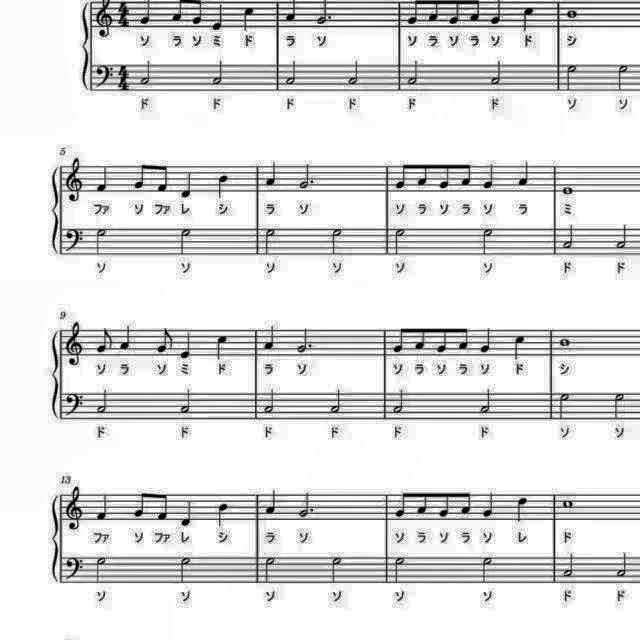Bass-clef: (64, 389, 88, 418), (93, 61, 117, 90), (63, 554, 87, 582), (64, 226, 88, 254)
Eighth-note: (154, 327, 178, 357), (94, 325, 115, 355), (132, 487, 150, 521), (390, 322, 408, 356), (132, 157, 150, 190), (394, 157, 412, 190), (154, 160, 170, 196), (412, 322, 430, 353), (434, 324, 451, 356), (438, 160, 454, 192), (416, 158, 432, 190), (153, 490, 169, 522), (392, 488, 408, 520), (405, 0, 423, 28), (438, 491, 454, 522), (456, 323, 472, 353), (458, 159, 474, 189), (458, 488, 474, 516), (416, 487, 430, 517), (188, 0, 204, 26), (447, 0, 463, 26), (466, 0, 482, 24), (169, 1, 185, 23), (426, 1, 440, 23)
Full-note: (564, 6, 580, 22), (560, 183, 576, 197), (560, 497, 576, 511), (557, 338, 573, 350)
Half-dot: (294, 158, 316, 190), (298, 488, 318, 520), (296, 325, 316, 355), (314, 0, 334, 28)
Half-note: (488, 56, 508, 88), (614, 61, 634, 93), (478, 553, 498, 585), (562, 62, 582, 94), (262, 226, 282, 258), (177, 226, 196, 258), (179, 384, 199, 414), (176, 553, 194, 585), (479, 226, 497, 258), (391, 224, 409, 256), (612, 392, 630, 424), (329, 226, 347, 258), (329, 553, 346, 585), (263, 387, 281, 417), (405, 57, 423, 87), (478, 387, 496, 417), (561, 222, 579, 252), (390, 554, 408, 584), (209, 59, 227, 89), (263, 554, 281, 584), (615, 220, 633, 250), (614, 550, 632, 580), (390, 388, 408, 417), (94, 552, 110, 584), (556, 392, 572, 424), (561, 550, 579, 578), (138, 57, 154, 87), (346, 57, 362, 87), (284, 57, 300, 87), (94, 226, 110, 256), (96, 385, 112, 415), (328, 388, 344, 417)
Quarter-note: (92, 489, 110, 523), (177, 498, 195, 530), (177, 168, 195, 200), (480, 488, 498, 520), (514, 494, 532, 526), (94, 164, 112, 196), (177, 330, 195, 362), (262, 321, 280, 352), (213, 500, 231, 530), (213, 170, 231, 200), (116, 324, 134, 354), (212, 331, 230, 361), (511, 333, 529, 361), (240, 4, 258, 32), (210, 1, 226, 32), (264, 487, 280, 517), (264, 159, 280, 189), (482, 161, 498, 191), (514, 162, 530, 192), (520, 6, 536, 34), (488, 0, 504, 28), (282, 0, 300, 24), (480, 327, 494, 357), (138, 0, 154, 26)
Treble-clef: (64, 153, 88, 204), (64, 484, 88, 532), (65, 320, 87, 370), (95, 0, 116, 40)
